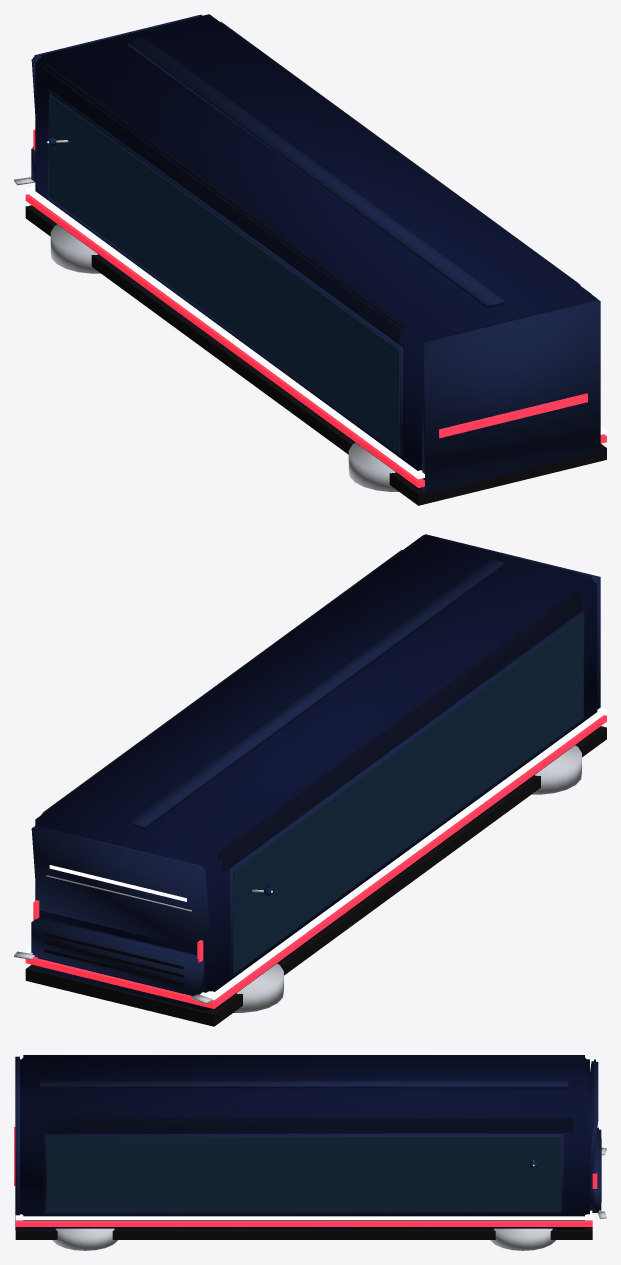
Rendered from bus-anuncio-dos-pantallas.glb.
The picture shows the model from 3 angles, top to bottom: view 1: azimuth 30°, elevation 25°; view 2: azimuth 150°, elevation 25°; view 3: azimuth 270°, elevation 25°; orthographic projection. The views are drawn at different scales.
Parts seen in each view (by area): view 1: Bus_Casco_Azul, Bus_Casco_Acento, Pantalla_Anuncio_Izq, Bus_Vidrio_Oscuro, Bus_Goma_Negra, Bus_Neon_Rojo, Bus_Neon_Blanco, Bus_Metal_Cromado; view 2: Bus_Casco_Azul, Pantalla_Anuncio_Izq, Bus_Casco_Acento, Bus_Goma_Negra, Bus_Vidrio_Oscuro, Bus_Neon_Rojo, Bus_Neon_Blanco, Bus_Metal_Cromado; view 3: Bus_Casco_Azul, Pantalla_Anuncio_Der, Bus_Casco_Acento, Bus_Vidrio_Oscuro, Bus_Goma_Negra, Bus_Neon_Rojo, Bus_Neon_Blanco, Bus_Metal_Cromado.
Part boxes in pixels (<box>): Bus_Casco_Azul: <box>35,14,597,488</box>; Bus_Casco_Acento: <box>31,14,600,494</box>; Pantalla_Anuncio_Izq: <box>49,94,399,453</box>; Bus_Vidrio_Oscuro: <box>42,21,580,344</box>; Bus_Goma_Negra: <box>25,205,606,505</box>; Bus_Neon_Rojo: <box>25,129,606,487</box>; Bus_Neon_Blanco: <box>25,186,606,479</box>; Bus_Metal_Cromado: <box>14,140,398,491</box>; Bus_Casco_Azul: <box>35,535,597,1010</box>; Pantalla_Anuncio_Izq: <box>233,615,583,974</box>; Bus_Casco_Acento: <box>31,534,600,995</box>; Bus_Goma_Negra: <box>25,726,606,1026</box>; Bus_Vidrio_Oscuro: <box>42,550,580,872</box>; Bus_Neon_Rojo: <box>25,715,606,1008</box>; Bus_Neon_Blanco: <box>25,707,606,1000</box>; Bus_Metal_Cromado: <box>14,745,581,1012</box>; Bus_Casco_Azul: <box>20,1055,589,1229</box>; Pantalla_Anuncio_Der: <box>47,1136,561,1212</box>; Bus_Casco_Acento: <box>15,1056,601,1229</box>; Bus_Vidrio_Oscuro: <box>47,1117,575,1132</box>; Bus_Goma_Negra: <box>15,1138,601,1239</box>; Bus_Neon_Rojo: <box>14,1127,597,1226</box>; Bus_Neon_Blanco: <box>15,1210,592,1220</box>; Bus_Metal_Cromado: <box>52,1147,606,1250</box>.
Bounding box in the file's own units: 4.01 × 3.12 × 12.45.
